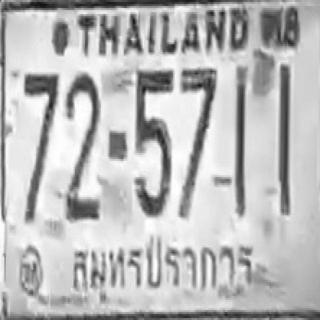N01: (276, 63, 290, 198)
N02: (64, 72, 100, 205)
N05: (134, 68, 173, 215)
N07: (177, 72, 216, 218), (179, 66, 216, 216), (23, 72, 59, 218), (23, 73, 59, 192), (180, 66, 217, 165), (23, 74, 58, 164)
P57: (62, 236, 260, 296)
